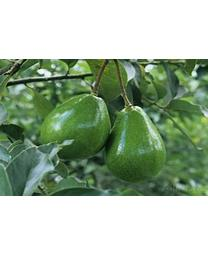avocado: (37, 92, 112, 162), (105, 105, 168, 182)
